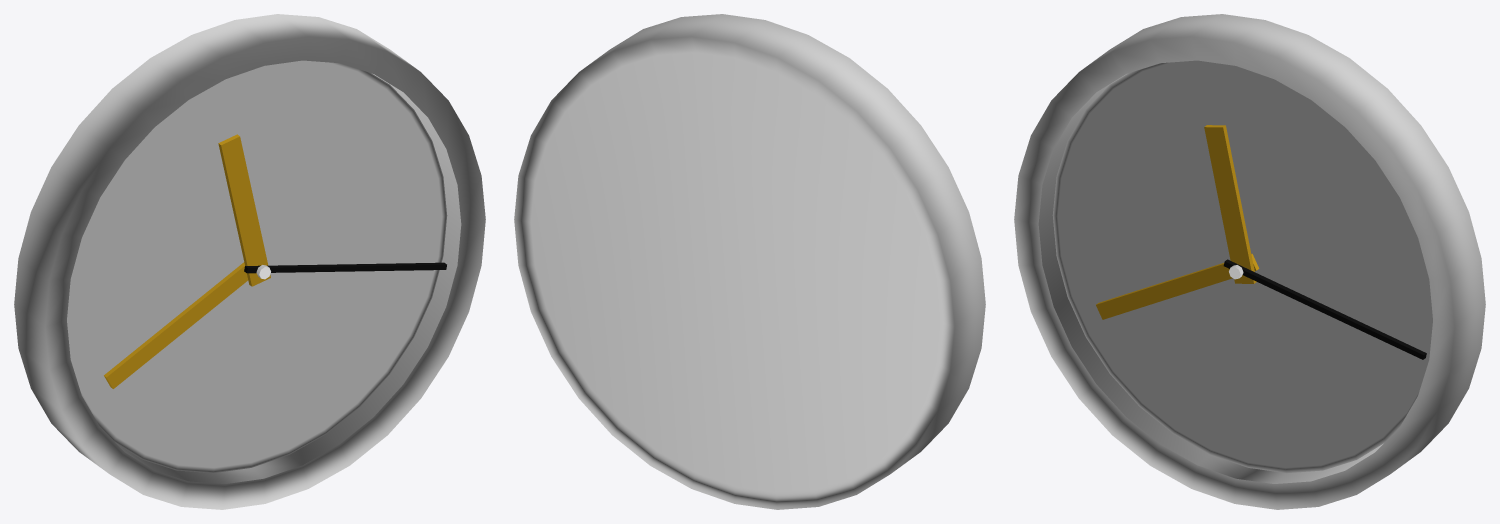
The model's file is Clock.fbx.
3 renders of one model, left to right at view 1: azimuth 30°, elevation 25°; view 2: azimuth 150°, elevation 25°; view 3: azimuth 330°, elevation 25°, orthographic.
Visible parts, largest first — view 1: Clock, Object003, Object002, Object001; view 2: Clock; view 3: Clock, Object003, Object002, Object001.
Part boxes in pixels (x1,y1,x2,y2): Clock: (14,14,485,509); Object003: (218,134,270,286); Object002: (104,262,247,388); Object001: (244,262,446,273); Clock: (514,14,985,509); Clock: (1014,14,1485,509); Object003: (1204,125,1256,283); Object002: (1096,253,1259,319); Object001: (1223,259,1426,359).
Bounding box in the file's own units: 90.71 × 90.71 × 11.07.
